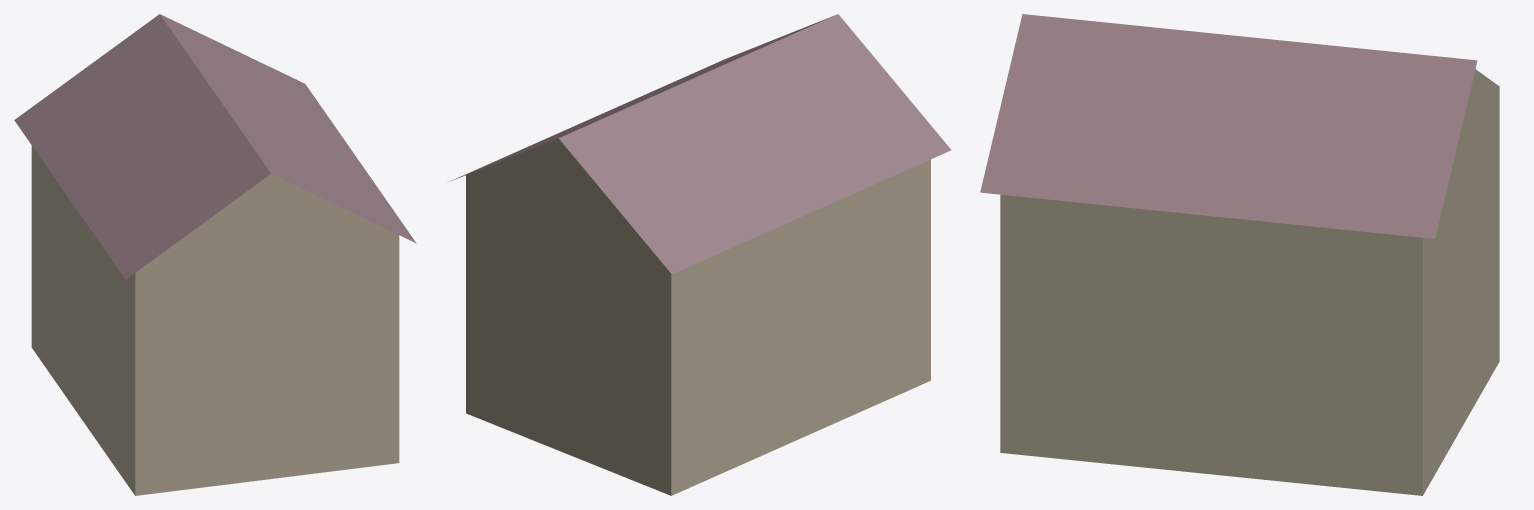
3 renders of one model, left to right at view 1: azimuth 30°, elevation 25°; view 2: azimuth 150°, elevation 25°; view 3: azimuth 270°, elevation 25°, orthographic. The views are drawn at different scales.
Visible parts, largest first — view 1: tuile; view 2: tuile; view 3: tuile.
Part boxes in pixels (x1=…): tuile: x1=14, y1=14, x2=416, y2=495; tuile: x1=449, y1=14, x2=951, y2=495; tuile: x1=980, y1=14, x2=1499, y2=495.
Bounding box in the file's own units: 9.59 × 8.51 × 11.25.
